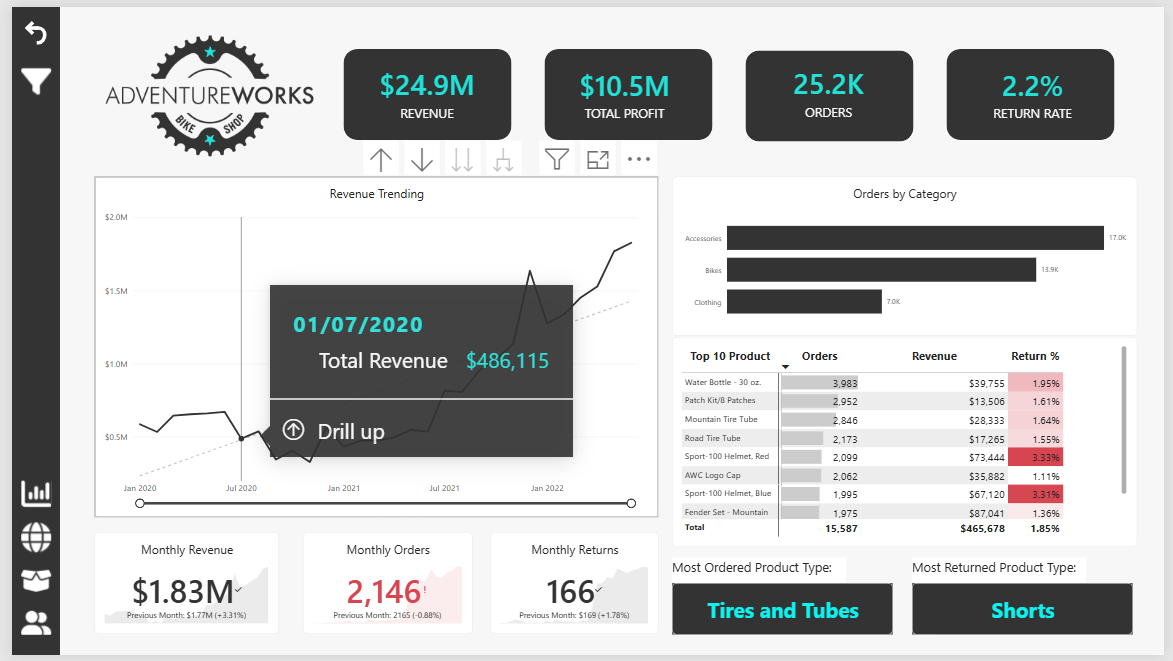

This screenshot's page, from the dashboard's own definition file:
{"tool":"powerbi","page":{"name":"Exec Dashboard","canvas":[1920,1080],"ordinal":0},"visuals":[{"type":"shape","box":[553.3,70,280,151.7],"z":0},{"type":"cardVisual","fields":{"Data":["Measure Table.Total Revenue"]},"box":[586.1,85.6,213.3,118.3],"z":0,"group":"g1"},{"type":"actionButton","box":[0,774,80,72],"z":0,"group":"g2"},{"type":"image","title":"AW logo","box":[116.7,31.7,425,231.7],"z":1000},{"type":"cardVisual","fields":{"Data":["Measure Table.Total Profit"]},"box":[919.4,100.2,207.6,90.7],"z":1000,"group":"g1"},{"type":"actionButton","box":[0,846,80,72],"z":1000,"group":"g2"},{"type":"shape","box":[888.3,70,280,151.7],"z":2000},{"type":"cardVisual","fields":{"Data":["Measure Table.Total Orders"]},"box":[1259.4,98.9,207.6,90.7],"z":2000,"group":"g1"},{"type":"actionButton","box":[0,918,80,72],"z":2000,"group":"g2"},{"type":"shape","box":[1223.3,71.7,280,151.7],"z":3000},{"type":"cardVisual","fields":{"Data":["Measure Table.Return Rate"]},"box":[1599.4,101.4,207.6,90.7],"z":3000,"group":"g1"},{"type":"actionButton","box":[0,990,80,72],"z":3000,"group":"g2"},{"type":"shape","box":[1558.3,70,280,151.7],"z":4000},{"type":"shape","title":"Navigate page","box":[0,0,80,1080],"z":5000},{"type":"group","id":"g1","title":"KPI Values","box":[586.1,85.6,1221.7,118.3],"z":6000},{"type":"lineChart","title":"Revenue Trending","fields":{"Category":["Calendar Lookup.Year","Calendar Lookup.Start of quarter","Calendar Lookup.Start of month"],"Y":["Measure Table.Total Revenue"]},"box":[138,282,940,568],"z":7000},{"type":"kpi","title":"Monthly Revenue","fields":{"Goal":["Measure Table.Previous Month Revenue"],"Indicator":["Measure Table.Total Revenue"],"TrendLine":["Calendar Lookup.Start of month"]},"box":[138,876,307.5,170],"z":8000},{"type":"kpi","title":"Monthly Orders","fields":{"Goal":["Measure Table.Previous Month Orders"],"Indicator":["Measure Table.Total Orders"],"TrendLine":["Calendar Lookup.Start of month"]},"box":[484,876,282.5,170],"z":9000},{"type":"kpi","title":"Monthly Returns","fields":{"Goal":["Measure Table.Previous Month Returns"],"Indicator":["Measure Table.Total Returns"],"TrendLine":["Calendar Lookup.Start of month"]},"box":[798,876,280,170],"z":10000},{"type":"clusteredBarChart","title":"Orders by Category","fields":{"Category":["Product Categories Lookup.CategoryName"],"Y":["Measure Table.Total Orders"]},"box":[1100,282.5,775,265],"z":11000},{"type":"pivotTable","fields":{"Rows":["Product Lookup.ProductName"],"Values":["Measure Table.Total Orders","Measure Table.Total Revenue","Measure Table.Return Rate"]},"box":[1100,550,775,350],"z":12000},{"type":"cardVisual","fields":{"Data":["Min(Product Subcategories Lookup.SubcategoryName)"]},"box":[1100,960,368,86],"z":13000},{"type":"textbox","box":[1100,918,290,42],"z":14000},{"type":"cardVisual","fields":{"Data":["Min(Product Subcategories Lookup.SubcategoryName)"]},"box":[1500,960,368,86],"z":15000},{"type":"textbox","box":[1499.3,918.7,290,42],"z":16000},{"type":"actionButton","box":[0,0,80,85],"z":17000},{"type":"group","id":"g2","title":"Navigation Buttons","box":[0,774,80,288],"z":18000},{"type":"actionButton","box":[0,86,80,78],"z":19000}]}

Visuals, with their boxes on the page's 1920x1080 design canvas (x1, y1, x2, y2). These are canvas units, not pixel positions in the 1173x661 screenshot, which may show the page scaled, cropped or inside an application window:
shape: <region>553, 70, 833, 222</region>
cardVisual - Measure Table.Total Revenue: <region>586, 86, 799, 204</region>
actionButton: <region>0, 774, 80, 846</region>
"AW logo" image: <region>117, 32, 542, 263</region>
cardVisual - Measure Table.Total Profit: <region>919, 100, 1127, 191</region>
actionButton: <region>0, 846, 80, 918</region>
shape: <region>888, 70, 1168, 222</region>
cardVisual - Measure Table.Total Orders: <region>1259, 99, 1467, 190</region>
actionButton: <region>0, 918, 80, 990</region>
shape: <region>1223, 72, 1503, 223</region>
cardVisual - Measure Table.Return Rate: <region>1599, 101, 1807, 192</region>
actionButton: <region>0, 990, 80, 1062</region>
shape: <region>1558, 70, 1838, 222</region>
"Navigate page" shape: <region>0, 0, 80, 1080</region>
"KPI Values" group: <region>586, 86, 1808, 204</region>
"Revenue Trending" lineChart: <region>138, 282, 1078, 850</region>
"Monthly Revenue" kpi: <region>138, 876, 446, 1046</region>
"Monthly Orders" kpi: <region>484, 876, 766, 1046</region>
"Monthly Returns" kpi: <region>798, 876, 1078, 1046</region>
"Orders by Category" clusteredBarChart: <region>1100, 282, 1875, 548</region>
pivotTable - Product Lookup.ProductName x Measure Table.Total Orders: <region>1100, 550, 1875, 900</region>
cardVisual - Min(Product Subcategories Lookup.SubcategoryName): <region>1100, 960, 1468, 1046</region>
textbox: <region>1100, 918, 1390, 960</region>
cardVisual - Min(Product Subcategories Lookup.SubcategoryName): <region>1500, 960, 1868, 1046</region>
textbox: <region>1499, 919, 1789, 961</region>
actionButton: <region>0, 0, 80, 85</region>
"Navigation Buttons" group: <region>0, 774, 80, 1062</region>
actionButton: <region>0, 86, 80, 164</region>
